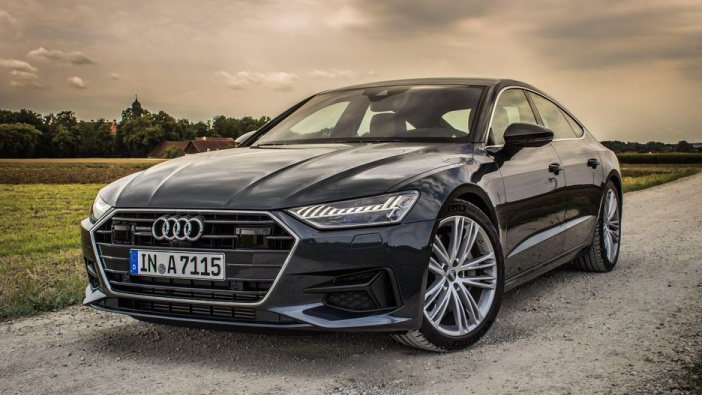audi: (147, 214, 213, 243)
